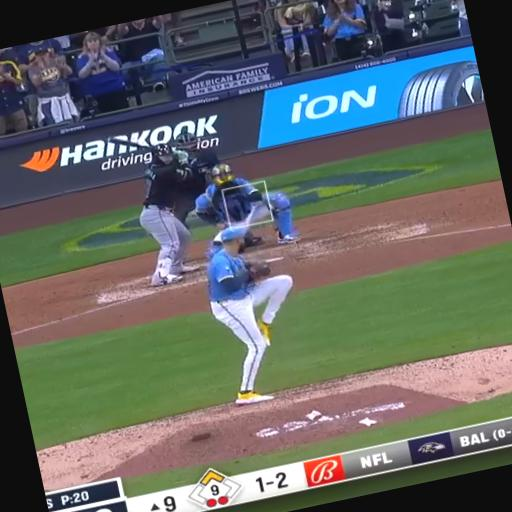bat: (107, 137, 150, 148)
